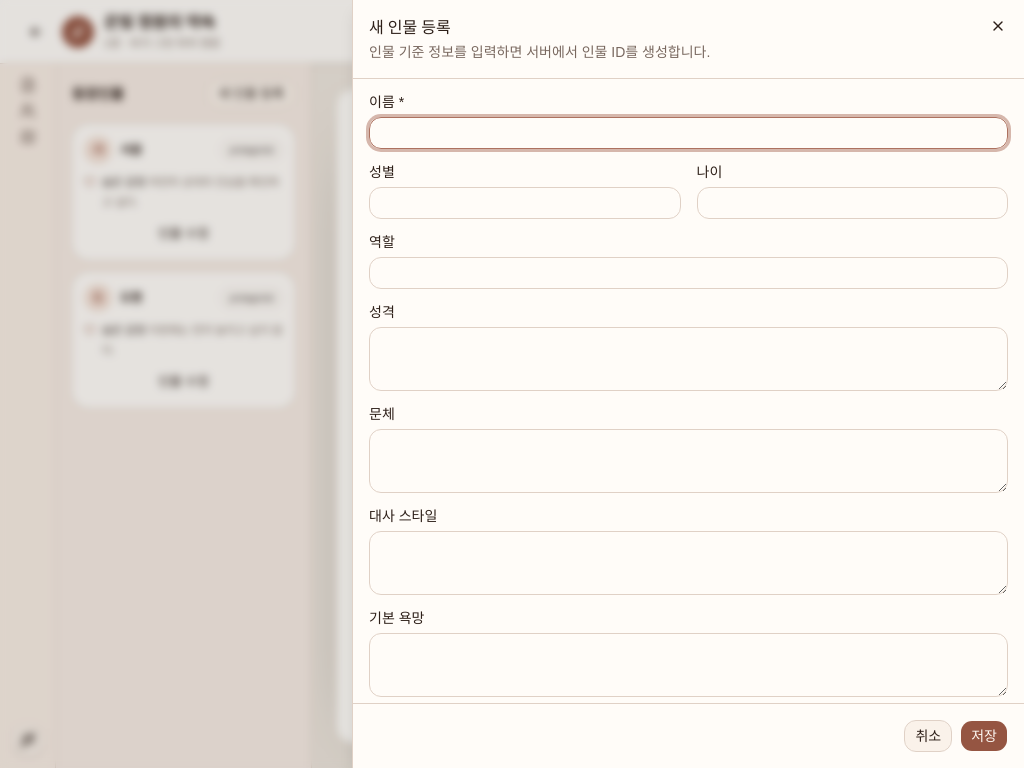
Test case: WritingWorkspacePage › uses product validation for an untouched empty create name
Click the button "저장" at (984, 736), box [960,720,1008,752]
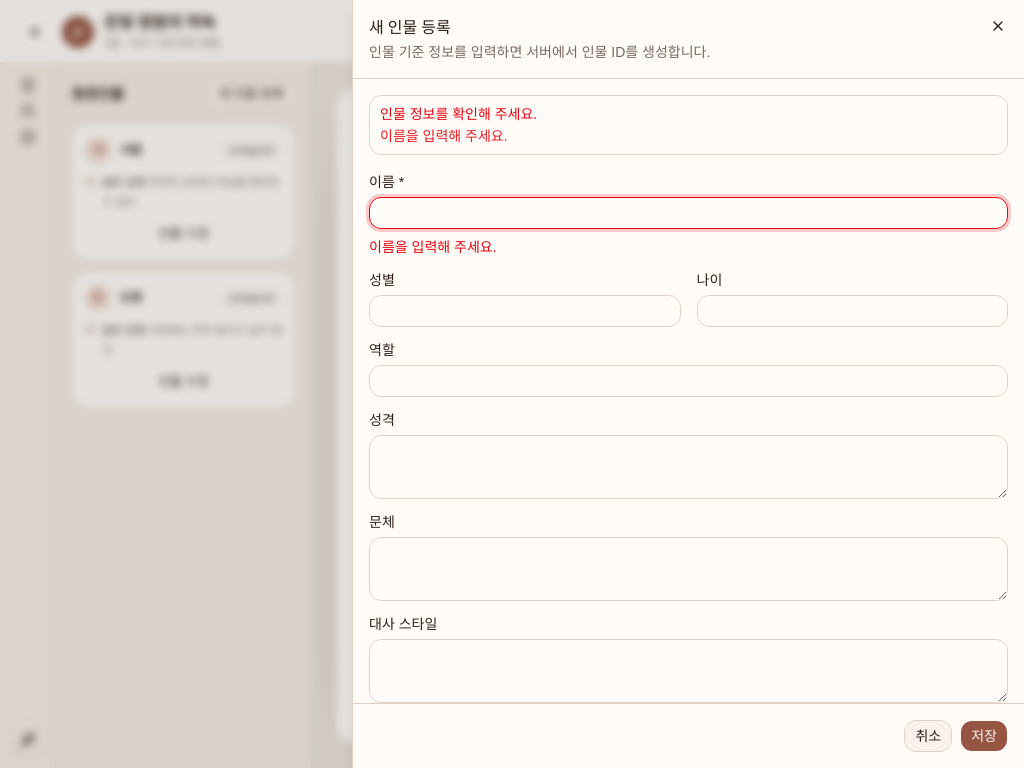
Now the message shows "이름을 입력해 주세요.", box [380,128,508,144]
